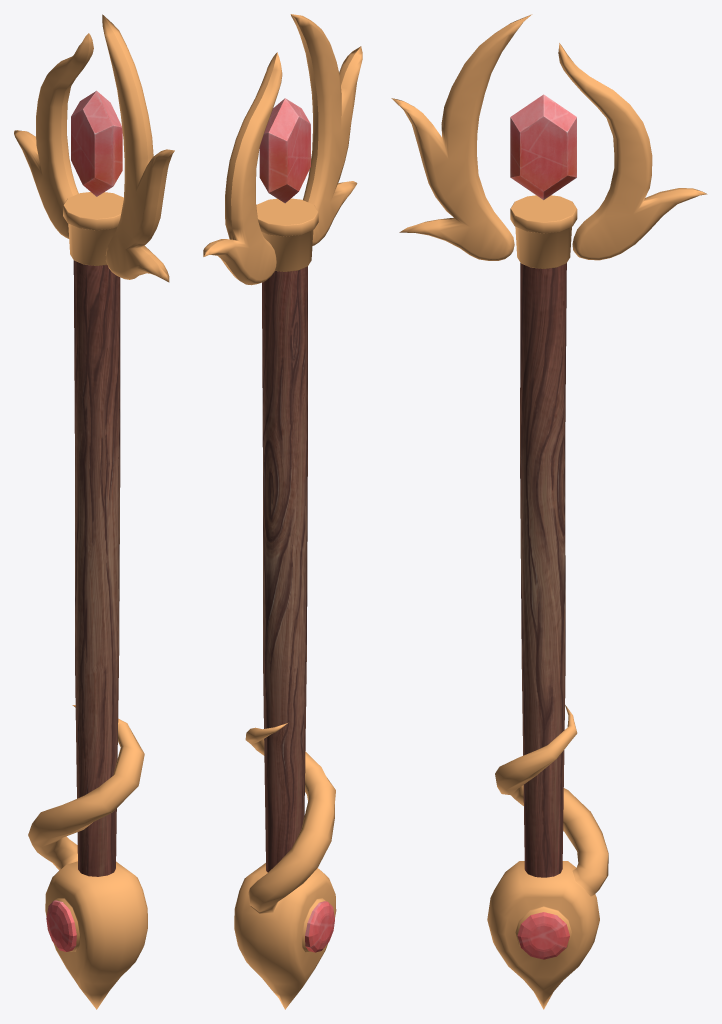
The model's file is StaffV1.fbx.
3 renders of one model, left to right at view 1: azimuth 30°, elevation 25°; view 2: azimuth 150°, elevation 25°; view 3: azimuth 270°, elevation 25°, orthographic.
Parts seen in each view (by area): view 1: Cylinder.001, Cylinder.002, Cylinder.003; view 2: Cylinder.001, Cylinder.002, Cylinder.003; view 3: Cylinder.001, Cylinder.002, Cylinder.003.
Boxes of the visible parts, x1,y1,x2,y2 form: Cylinder.001: (14,14,174,1009); Cylinder.002: (73,260,120,876); Cylinder.003: (46,90,122,951); Cylinder.001: (203,14,362,1009); Cylinder.002: (262,266,307,872); Cylinder.003: (259,98,334,952); Cylinder.001: (391,14,707,1009); Cylinder.002: (520,263,566,877); Cylinder.003: (510,94,576,959).
Bounding box in the file's own units: 195 × 2017 × 581.
Materials: 3 (2 with a texture image).
